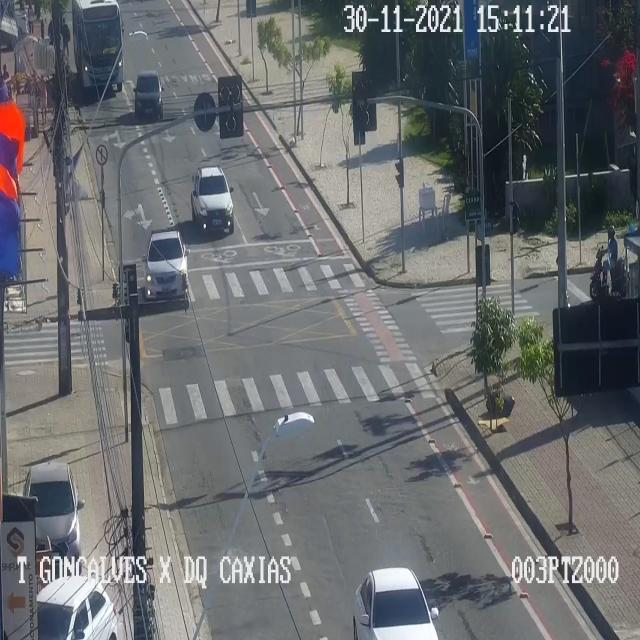Bus: (74, 2, 125, 93)
Car: (352, 567, 438, 639), (24, 463, 80, 573), (36, 575, 116, 639), (144, 230, 187, 297), (191, 166, 233, 231), (134, 70, 162, 116)
Motorcycle: (589, 224, 630, 299)
